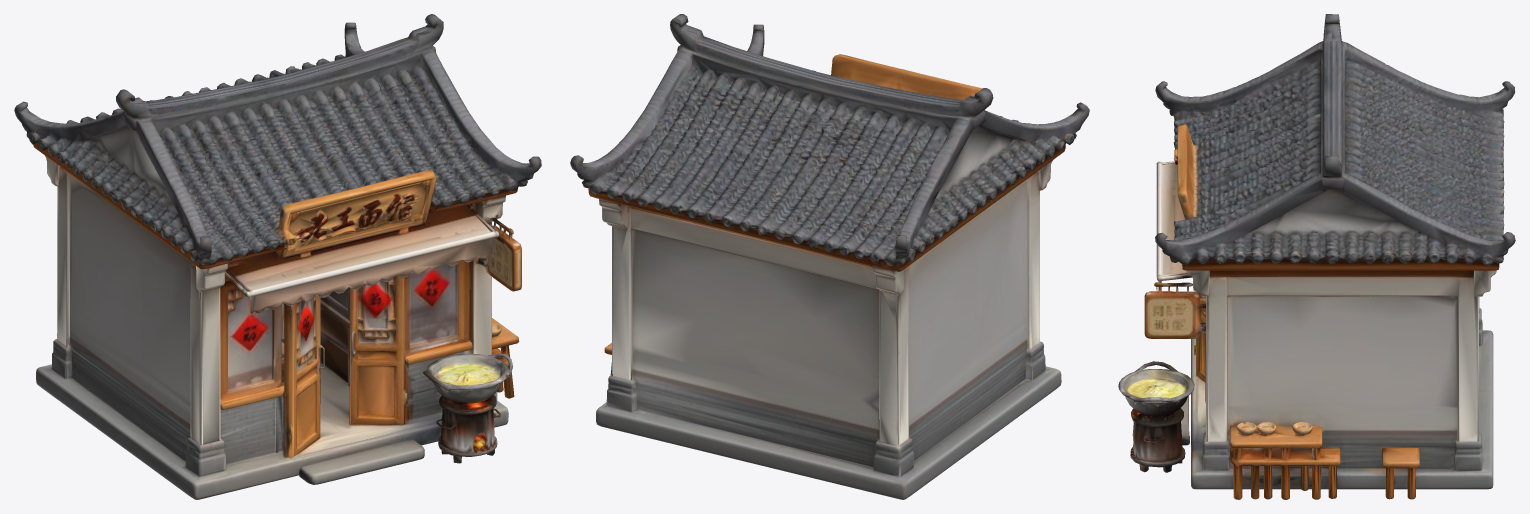
The model's file is mianguan.glb.
3 renders of one model, left to right at view 1: azimuth 30°, elevation 25°; view 2: azimuth 150°, elevation 25°; view 3: azimuth 270°, elevation 25°, orthographic. The views are drawn at different scales.
Parts seen in each view (by area): view 1: node_0; view 2: node_0; view 3: node_0.
Boxes of the visible parts, x1=… form: node_0: x1=14, y1=14, x2=541, y2=499; node_0: x1=570, y1=14, x2=1089, y2=499; node_0: x1=1118, y1=14, x2=1515, y2=499.
Size of the model in its own units: 0.7488 by 0.7098 by 0.766.
1 material, 1 textured.
